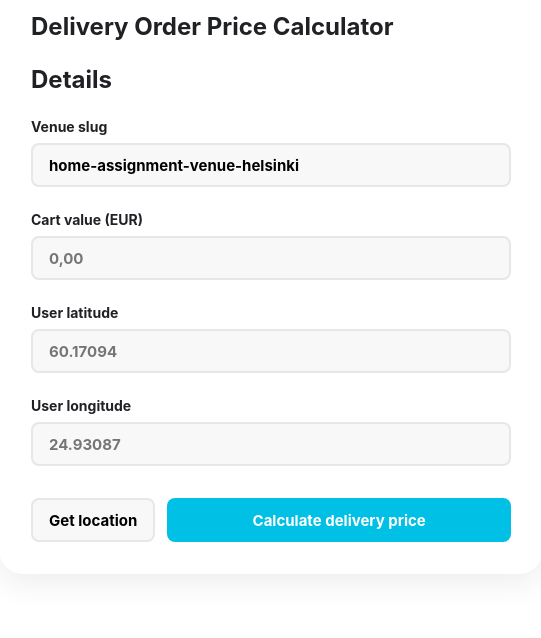
Test: DeliveryCalculator › handles form validation edge cases
Test invalid venue slug
Step 1. Clear the field with test id "venueSlug" → (271, 165), box [31,143,511,187]
Step 2. Type "10.00" into the field with test id "cartValue" → (271, 258), box [31,236,511,280]
Step 3. Type "60.1699" into the number field with test id "userLatitude" → (271, 351), box [31,329,511,373]
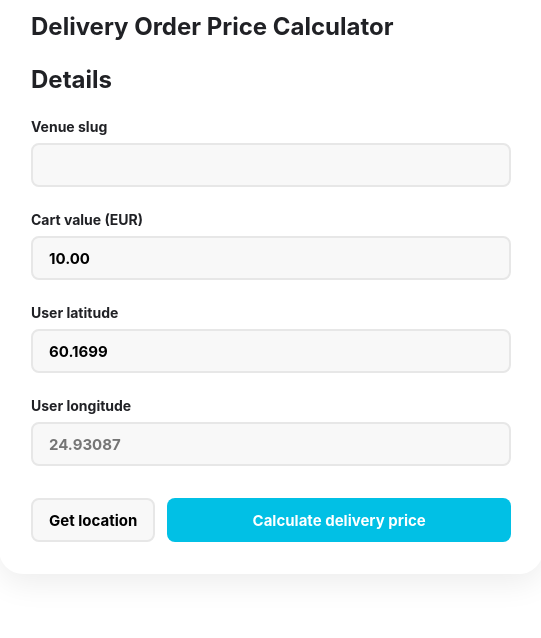
Step 4. Type "24.9384" into the number field with test id "userLongitude" → (271, 444), box [31,422,511,466]
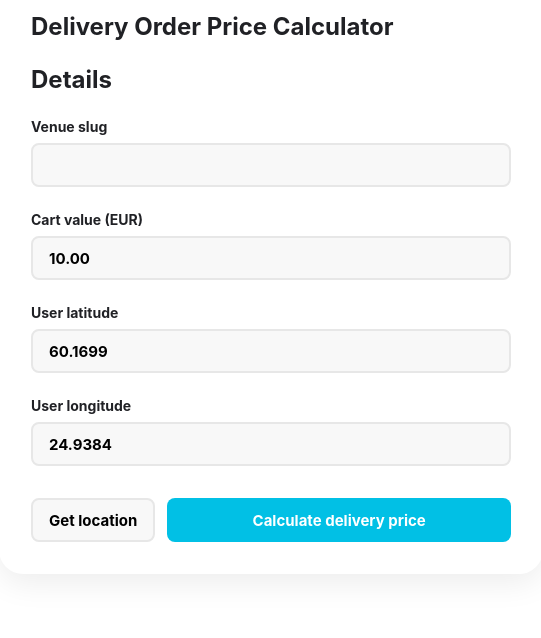
Step 5. Click the button with test id "calculateDeliveryPrice" → (339, 520), box [167,498,511,542]
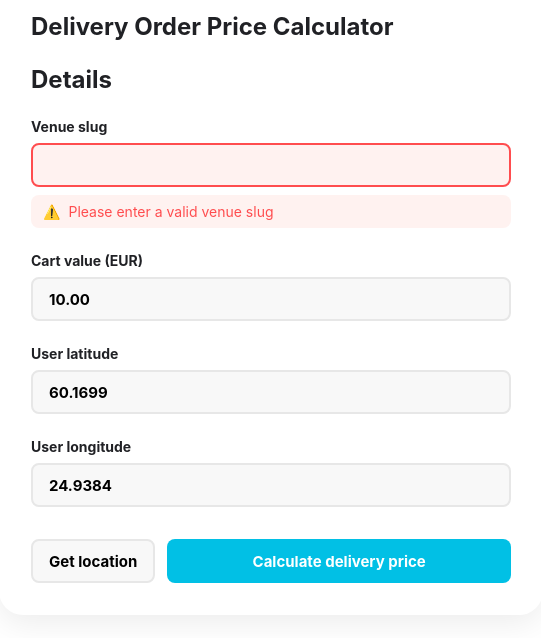
Result: the text "⚠️ Please enter a valid venue slug" is shown at [31,195,511,228]
Test invalid cart value format
Step 6. Type "test-venue" into the field with test id "venueSlug" → (271, 165), box [31,143,511,187]
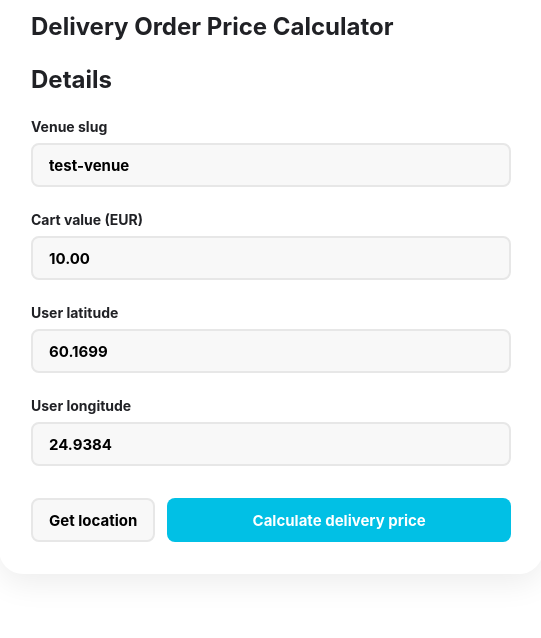
Step 7. Replace the text in the field with test id "cartValue" with "10.999" → (271, 258), box [31,236,511,280]
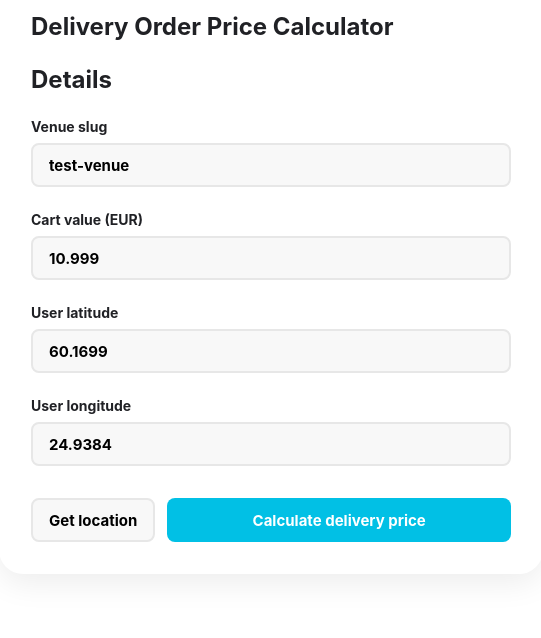
Step 8. Click the button with test id "calculateDeliveryPrice" → (339, 520), box [167,498,511,542]
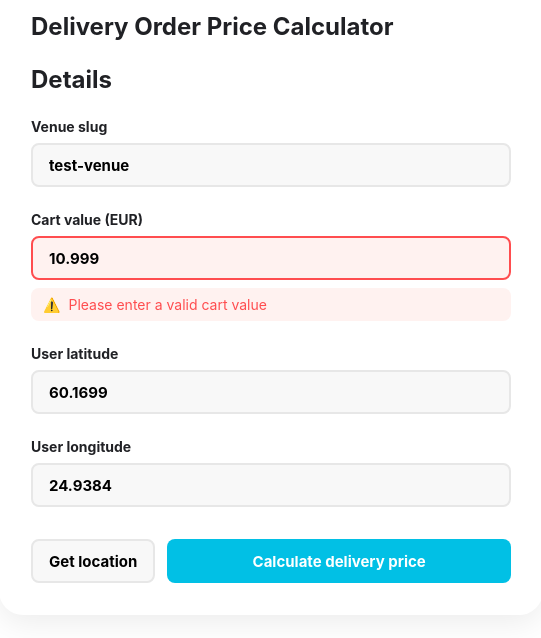
Result: the text "⚠️ Please enter a valid cart value" is shown at [31,288,511,321]
